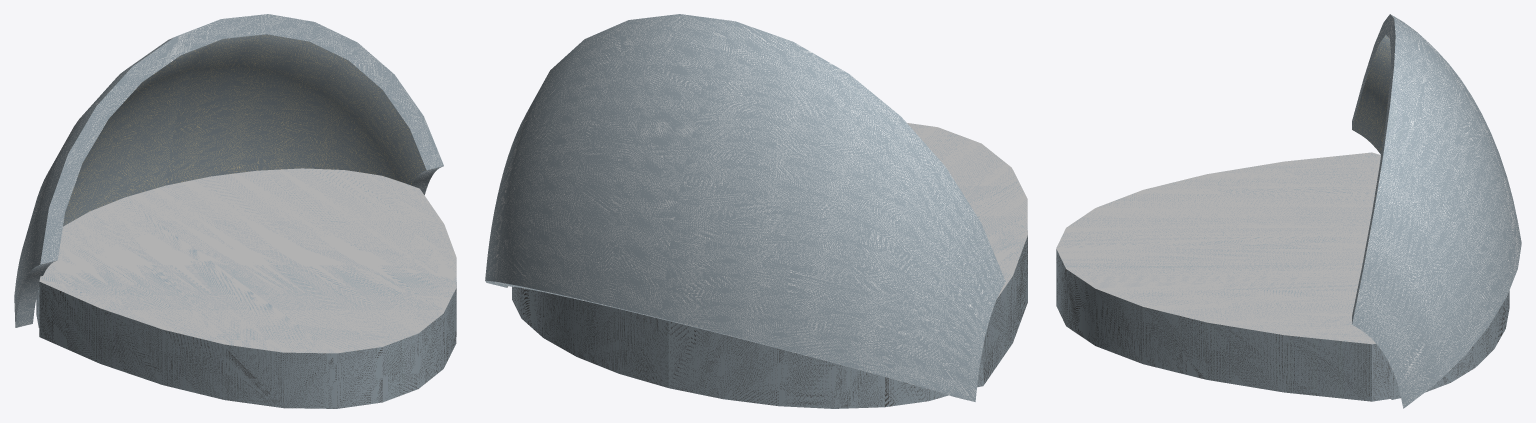
The model's file is DomeSpaceNoTex.fbx.
The picture shows the model from 3 angles, left to right: view 1: azimuth 30°, elevation 25°; view 2: azimuth 150°, elevation 25°; view 3: azimuth 270°, elevation 25°; orthographic projection. The views are drawn at different scales.
Visible parts, largest first — view 1: Model; view 2: Model; view 3: Model.
Part boxes in pixels (x1,y1,x2,y2): Model: (14,14,456,408); Model: (485,14,1027,408); Model: (1056,14,1521,408).
Size of the model in its own units: 2168 by 1346 by 2095.
